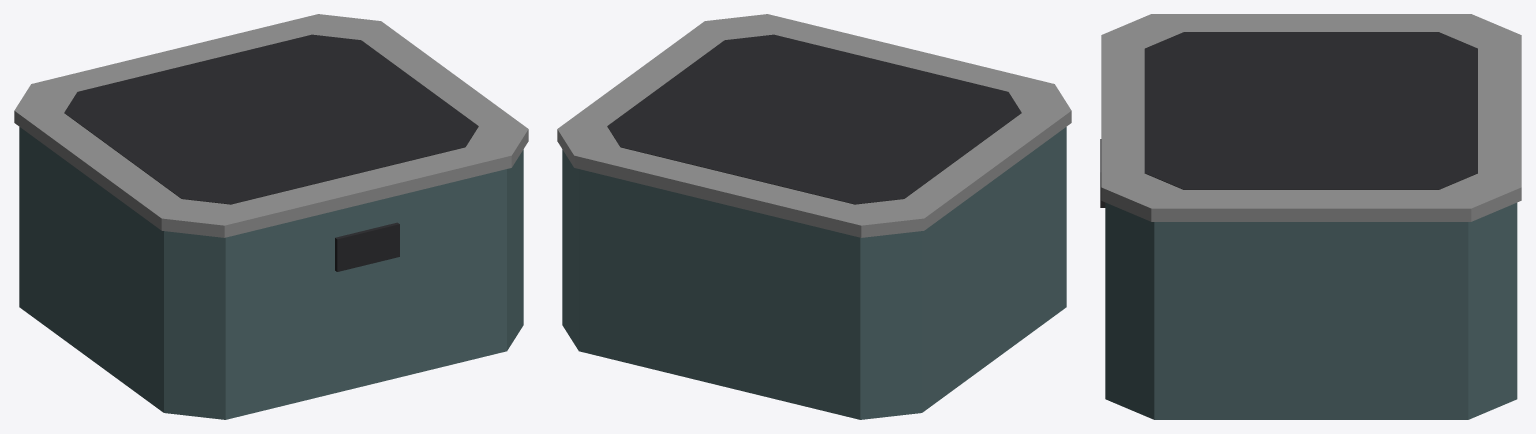
The model's file is vge_spacer_box_steel_empty.obj.
3 views of the same model, side by side, from view 1: azimuth 30°, elevation 25°; view 2: azimuth 150°, elevation 25°; view 3: azimuth 270°, elevation 25° (orthographic). The views are drawn at different scales.
Visible parts, largest first — view 1: vge_spacer_box_steel_empty_0, vge_spacer_box_steel_empty_2, vge_spacer_box_steel_empty_1, vge_spacer_box_steel_empty_3; view 2: vge_spacer_box_steel_empty_0, vge_spacer_box_steel_empty_2, vge_spacer_box_steel_empty_1; view 3: vge_spacer_box_steel_empty_0, vge_spacer_box_steel_empty_2, vge_spacer_box_steel_empty_1.
Part boxes in pixels (x1,y1,x2,y2): vge_spacer_box_steel_empty_0: (19,127,523,419); vge_spacer_box_steel_empty_2: (64,34,478,204); vge_spacer_box_steel_empty_1: (14,14,528,237); vge_spacer_box_steel_empty_3: (335,222,399,271); vge_spacer_box_steel_empty_0: (562,127,1066,419); vge_spacer_box_steel_empty_2: (607,34,1021,204); vge_spacer_box_steel_empty_1: (557,14,1071,237); vge_spacer_box_steel_empty_0: (1105,202,1517,419); vge_spacer_box_steel_empty_2: (1144,32,1477,189); vge_spacer_box_steel_empty_1: (1101,14,1521,221).
Size of the model in its own units: 0.9384 by 0.481 by 0.8584.
